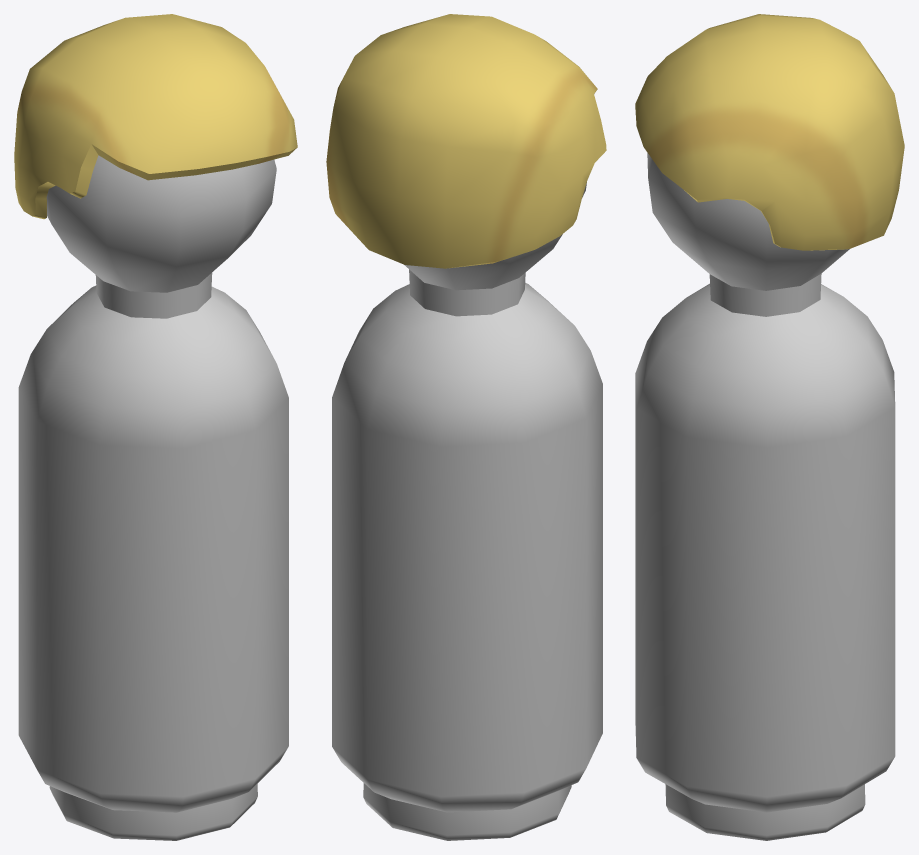
Rendered from Peg_Shirt_Short_YellowHair.fbx.
The picture shows the model from 3 angles, left to right: view 1: azimuth 30°, elevation 25°; view 2: azimuth 150°, elevation 25°; view 3: azimuth 270°, elevation 25°; orthographic projection.
Parts seen in each view (by area): view 1: Peg_Shirt_Short_YellowHair1; view 2: Peg_Shirt_Short_YellowHair1; view 3: Peg_Shirt_Short_YellowHair1.
Part boxes in pixels (box(x1,y1,x2,y2)): Peg_Shirt_Short_YellowHair1: box(14, 14, 297, 840); Peg_Shirt_Short_YellowHair1: box(326, 14, 606, 840); Peg_Shirt_Short_YellowHair1: box(635, 14, 904, 840).
Bounding box in the file's own units: 1.92 × 5.9 × 1.87.
